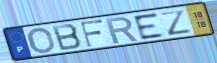B: (51, 23, 84, 52)
E: (131, 12, 167, 41)
F: (79, 18, 105, 49)
O: (27, 27, 57, 55)
R: (104, 16, 140, 45)
Z: (159, 8, 193, 36)
